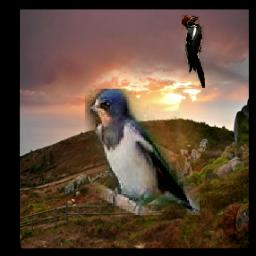Swallow: (85, 90, 200, 216)
Woodpecker: (182, 15, 205, 89)
